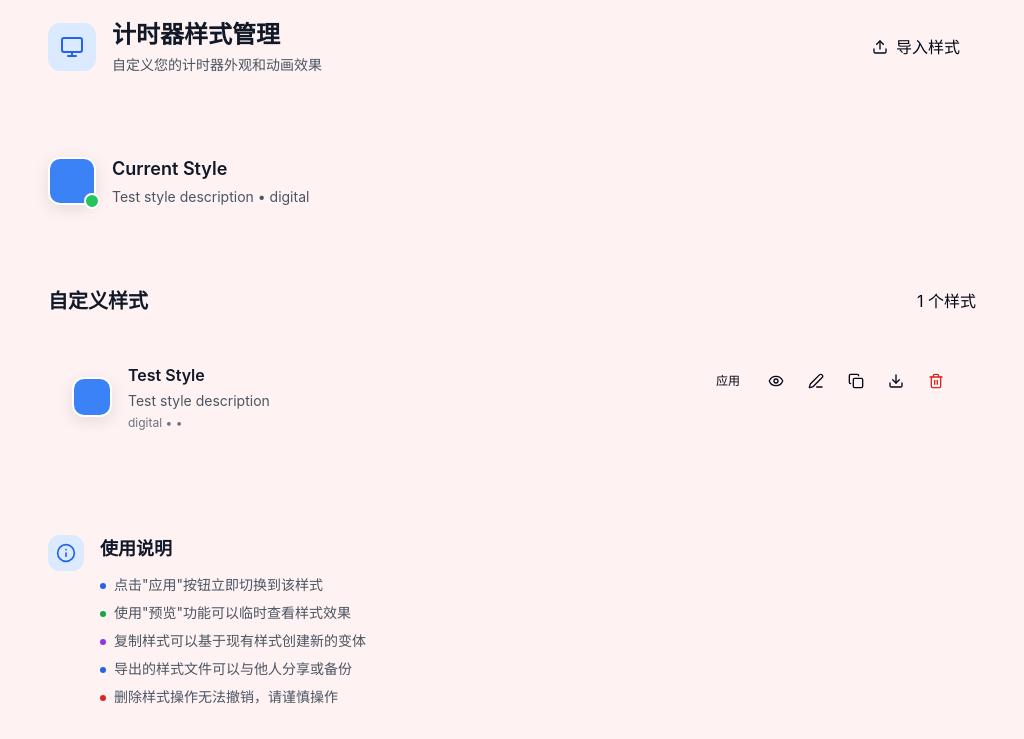
TimerStyleManager Notification System Tests › Notification Display › shows success notification when style is applied
The width and height of the screenshot is (1024, 739).
Note: Click apply button
What coordinates should you click on to do the following:
click the button "应用"
I would click on:
 (728, 381)
Its box is [704,363,752,399].
(page scrolled)
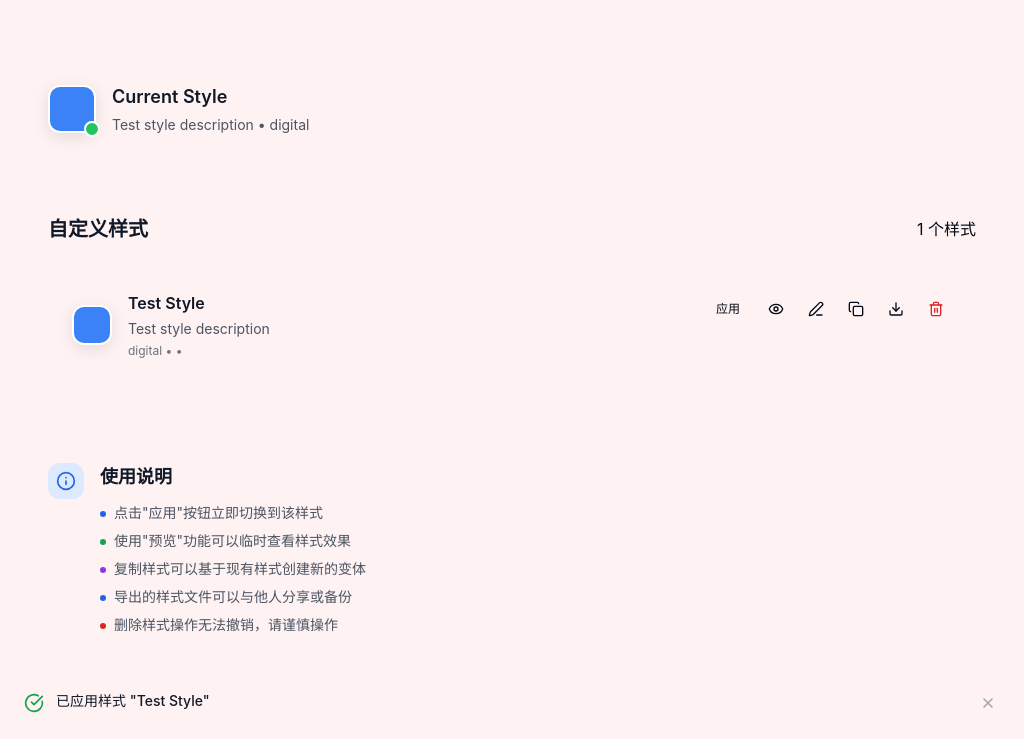
Check: the text "已应用样式 \"Test Style\"" is shown, box [56,692,210,709]
